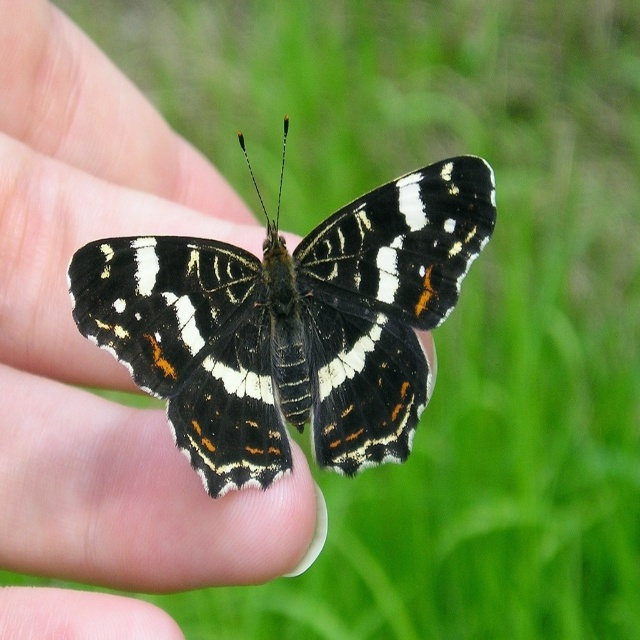Butterfly: (68, 114, 498, 500)
